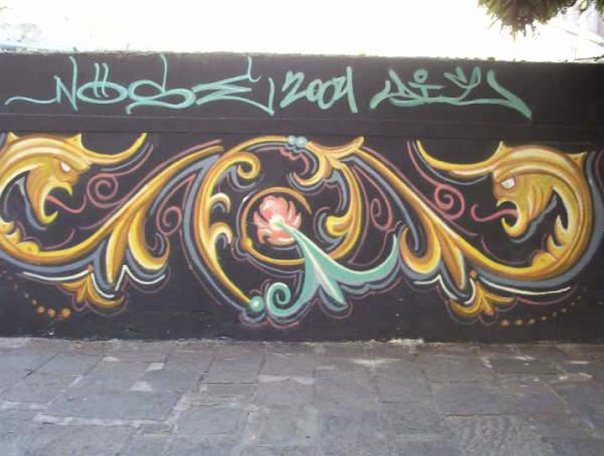graffity: (1, 127, 602, 334), (4, 50, 534, 123)
